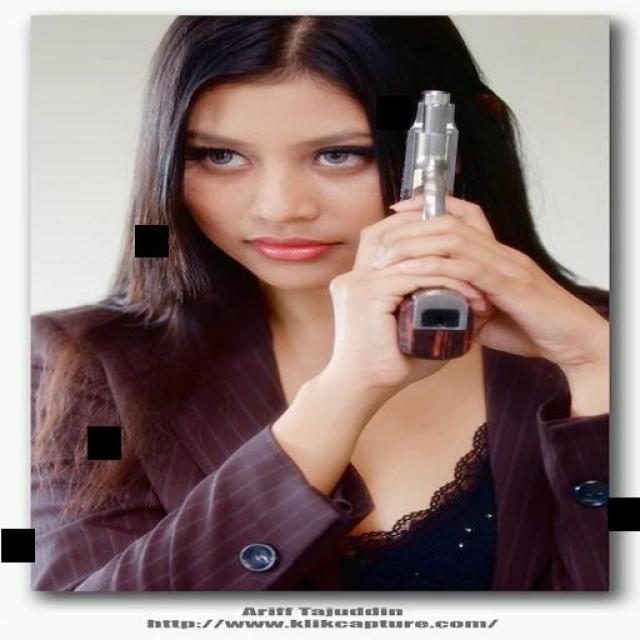gun: (372, 76, 482, 364)
